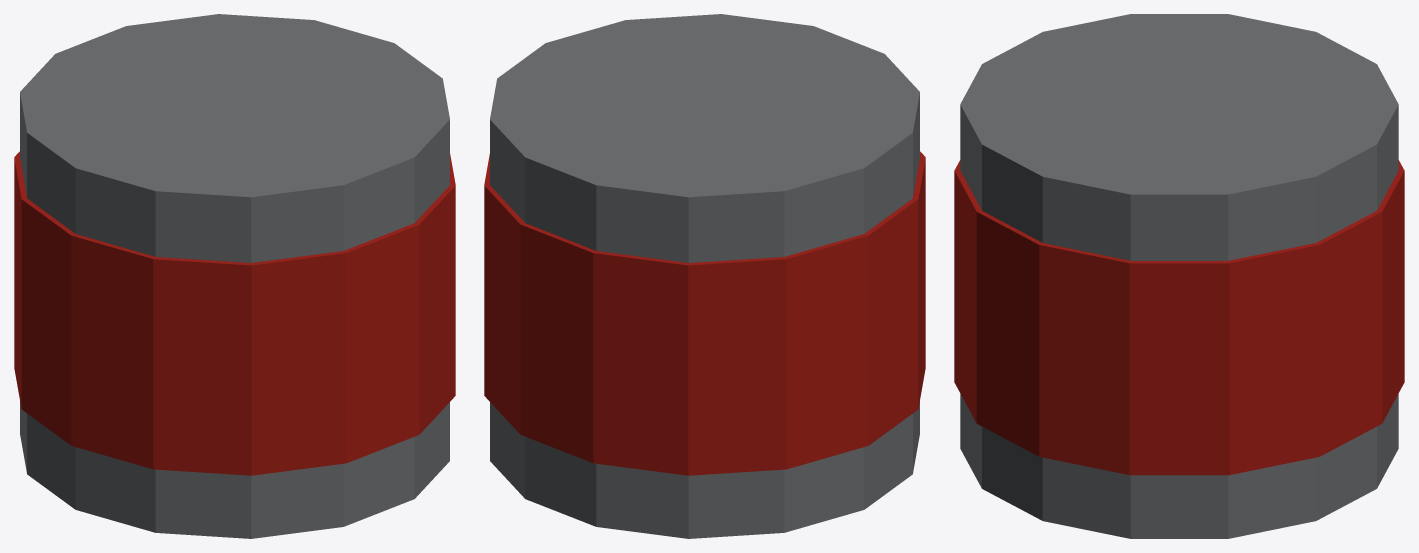
File: Item_Can.fbx
The picture shows the model from 3 angles, left to right: view 1: azimuth 30°, elevation 25°; view 2: azimuth 150°, elevation 25°; view 3: azimuth 270°, elevation 25°; orthographic projection.
Visible parts, largest first — view 1: Item_Can; view 2: Item_Can; view 3: Item_Can.
Boxes of the visible parts, left/top/right/bottom form: Item_Can: left=14, top=14, right=455, bottom=538; Item_Can: left=484, top=14, right=925, bottom=538; Item_Can: left=954, top=14, right=1404, bottom=538.
Size of the model in its own units: 0.1501 by 0.13 by 0.154.
